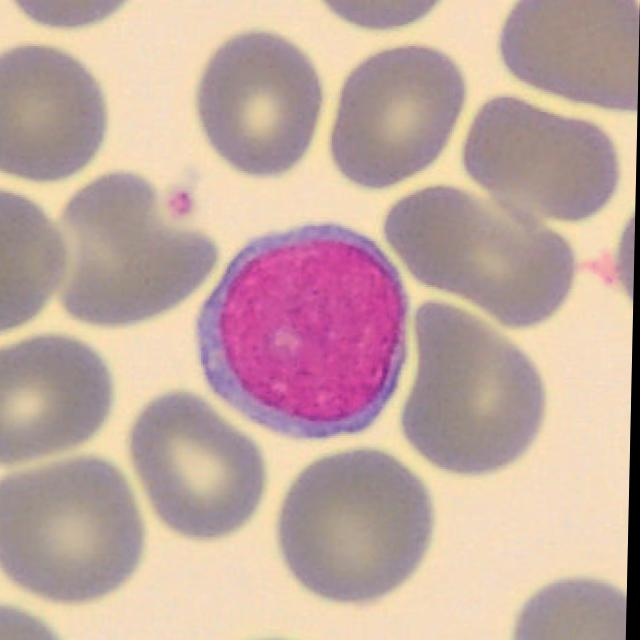Linfocito: (199, 223, 424, 443)
